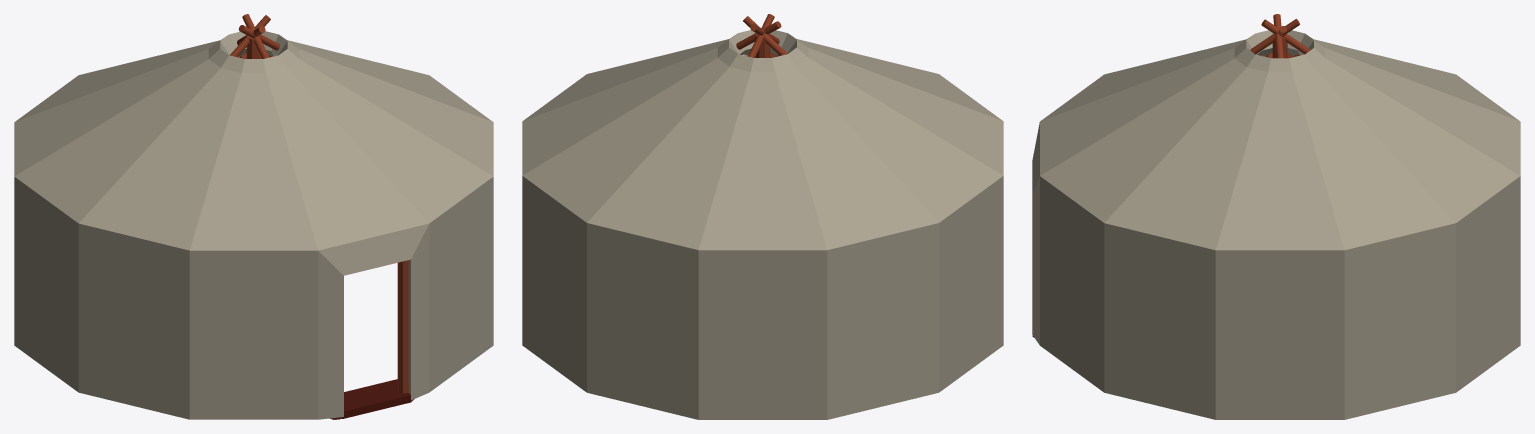
File: needle.fbx
The picture shows the model from 3 angles, left to right: view 1: azimuth 30°, elevation 25°; view 2: azimuth 150°, elevation 25°; view 3: azimuth 270°, elevation 25°; orthographic projection.
Parts seen in each view (by area): view 1: Cylinder.009, Cylinder.042, Cylinder.024; view 2: Cylinder.009; view 3: Cylinder.009.
Boxes of the visible parts, bbox=[...] form: Cylinder.009: bbox=[14, 31, 493, 419]; Cylinder.042: bbox=[333, 379, 414, 418]; Cylinder.024: bbox=[397, 260, 408, 393]; Cylinder.009: bbox=[522, 30, 1003, 419]; Cylinder.009: bbox=[1032, 30, 1520, 419].
Bounding box in the file's own units: 5.49 × 3.88 × 5.58.
